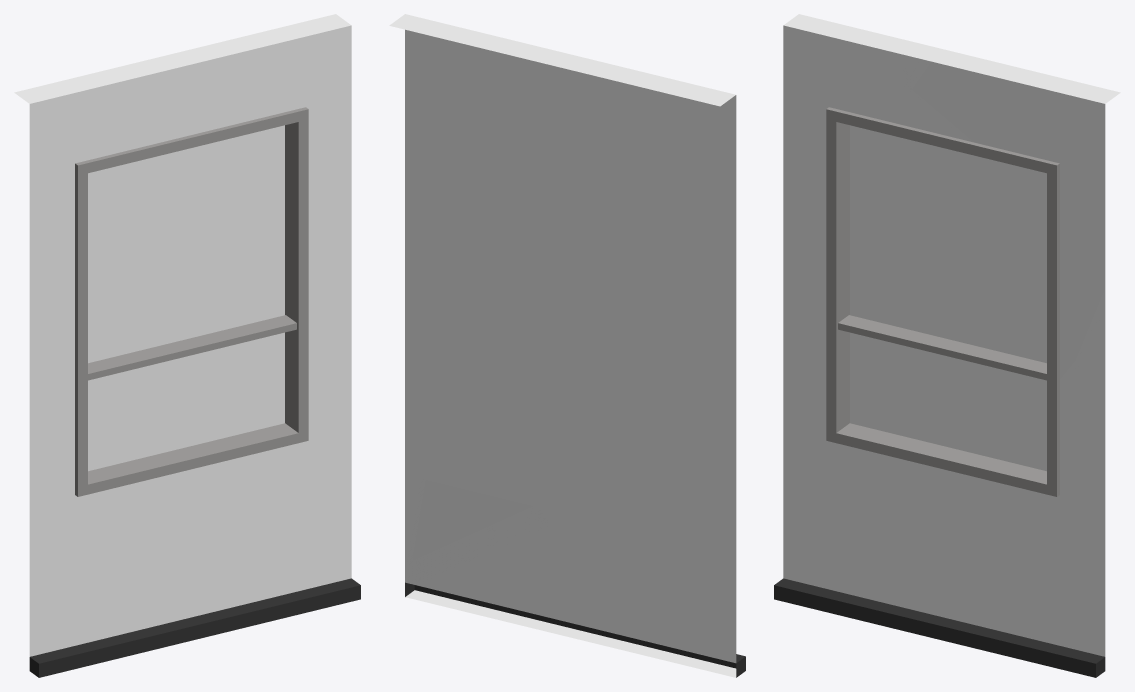
File: 13_wall(window).FBX
The picture shows the model from 3 angles, left to right: view 1: azimuth 30°, elevation 25°; view 2: azimuth 150°, elevation 25°; view 3: azimuth 330°, elevation 25°; orthographic projection. The views are drawn at different scales.
Visible parts, largest first — view 1: 13_wall(window), 13_wall_window(light); view 2: 13_wall_window(light), 13_wall(window); view 3: 13_wall(window), 13_wall_window(light).
Boxes of the visible parts, x1,y1,x2,y2 form: 13_wall(window): (14, 14, 360, 677); 13_wall_window(light): (88, 125, 284, 471); 13_wall_window(light): (418, 71, 694, 544); 13_wall(window): (389, 14, 745, 677); 13_wall(window): (774, 14, 1120, 677); 13_wall_window(light): (850, 125, 1046, 471).
Bounding box in the file's own units: 256 × 432 × 34.48.
